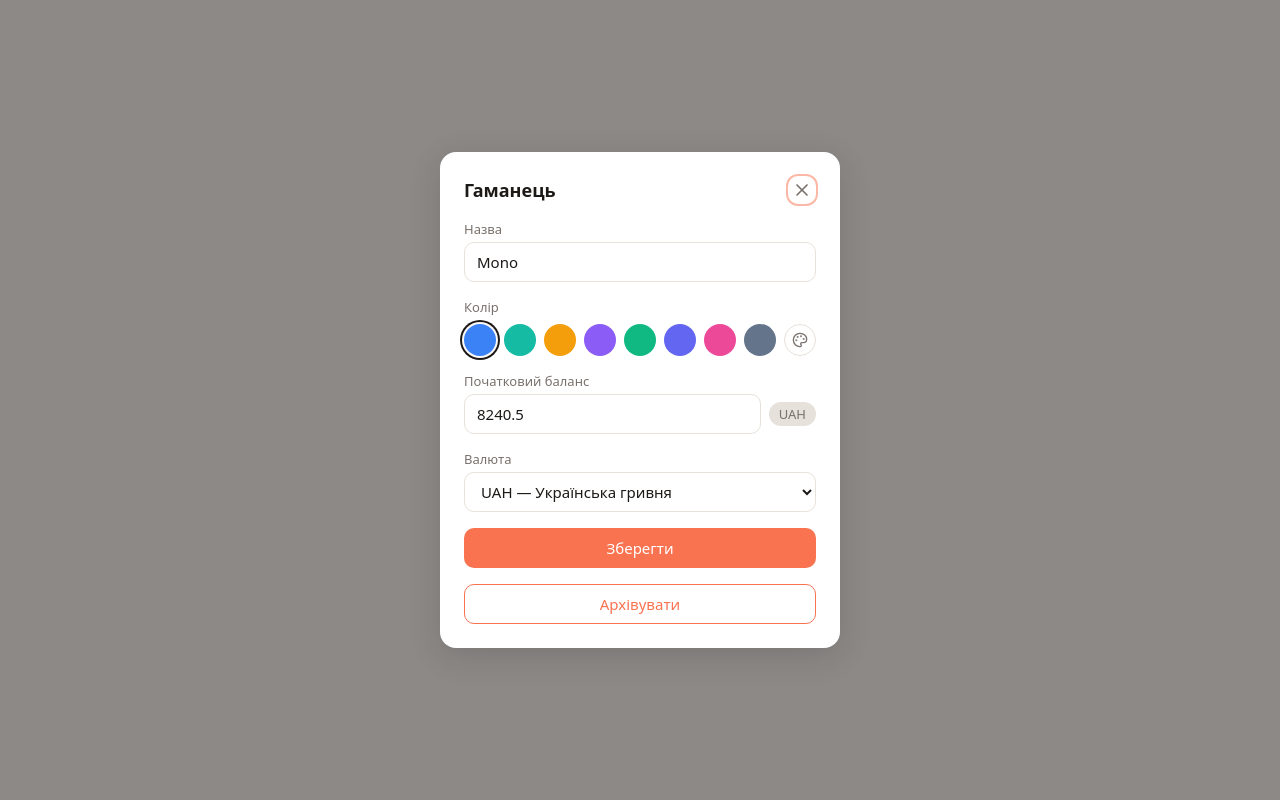
Test case: WalletDialog › shows a server refusal in place
Click the button "Зберегти" at (640, 548), box x1=464 y1=528 x2=816 y2=568
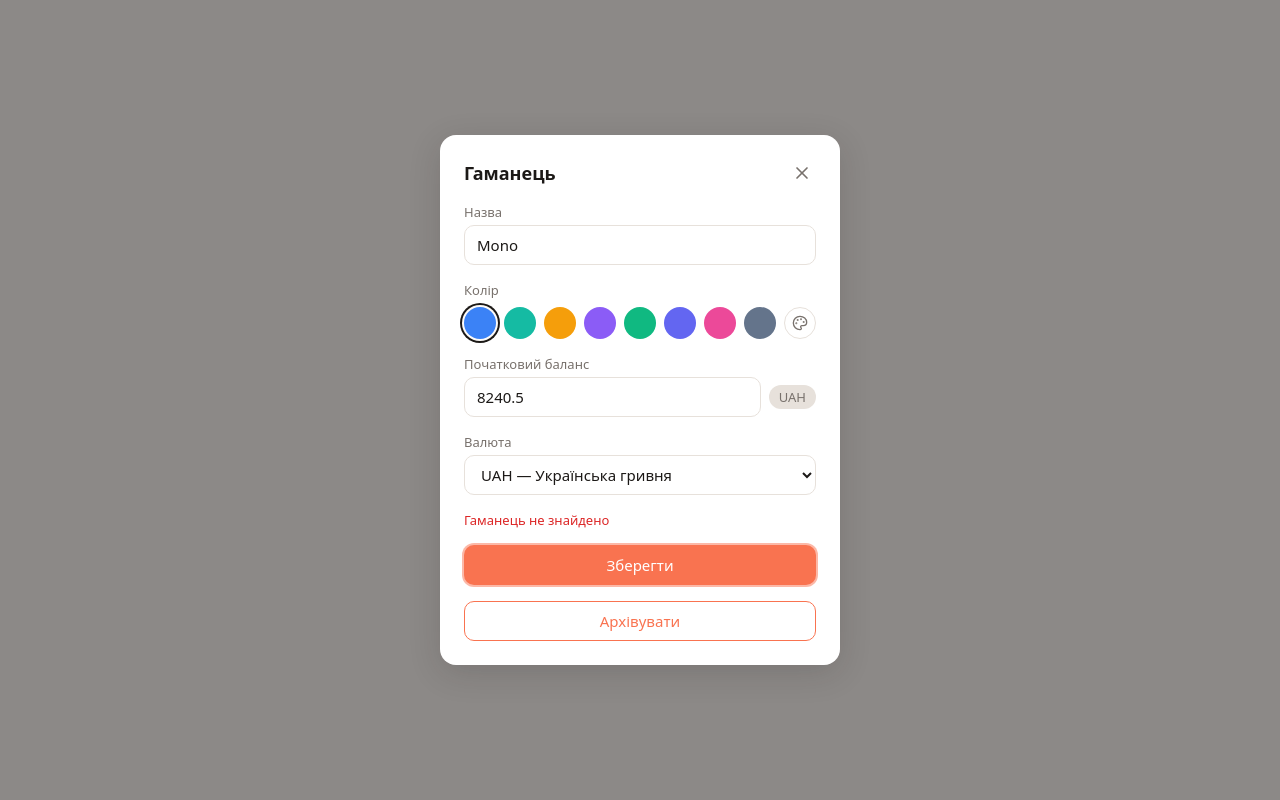
Expected: the message "Гаманець не знайдено" is shown, x1=464 y1=511 x2=609 y2=529
